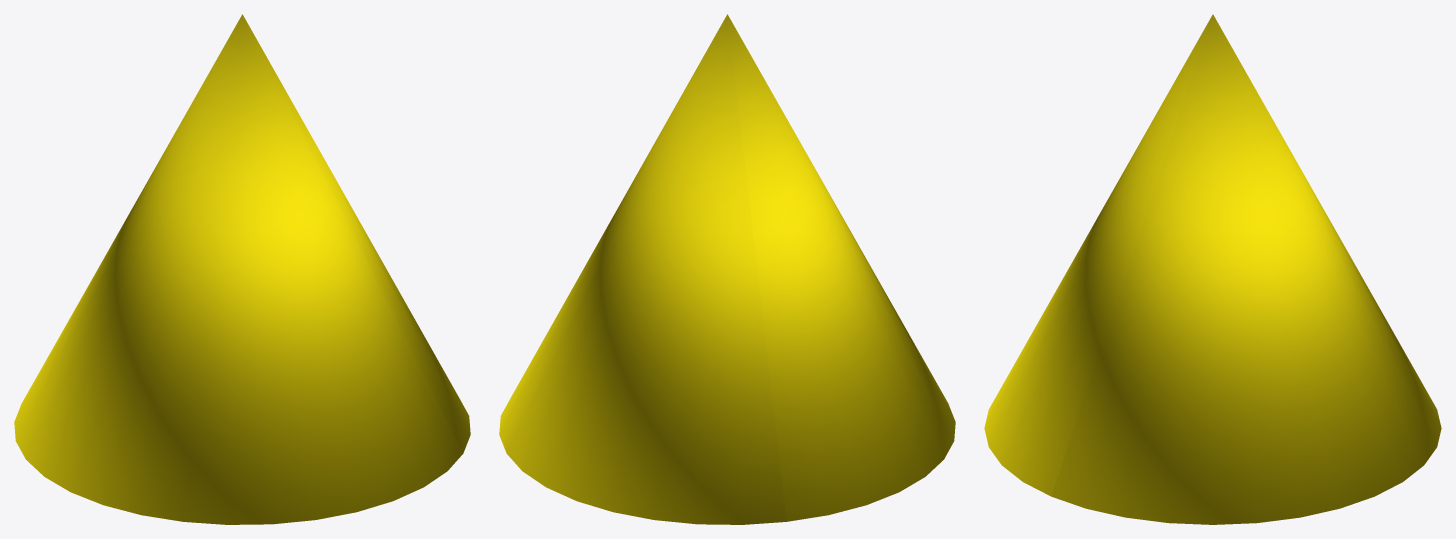
The model's file is figure_cone.obj.
3 renders of one model, left to right at view 1: azimuth 30°, elevation 25°; view 2: azimuth 150°, elevation 25°; view 3: azimuth 270°, elevation 25°, orthographic.
Parts seen in each view (by area): view 1: Cone; view 2: Cone; view 3: Cone.
Part boxes in pixels (x1,y1,x2,y2): Cone: (14, 14, 470, 524); Cone: (499, 14, 955, 524); Cone: (984, 14, 1441, 524).
Size of the model in its own units: 0.4 by 0.4 by 0.4.
